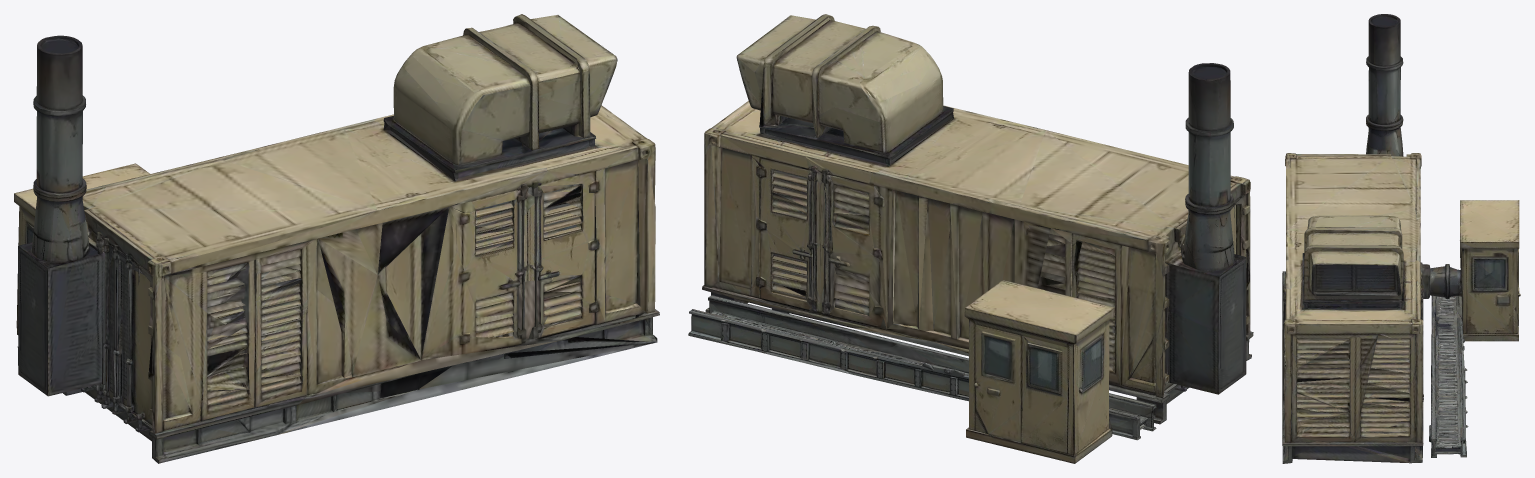
File: utilities.glb
3 renders of one model, left to right at view 1: azimuth 30°, elevation 25°; view 2: azimuth 150°, elevation 25°; view 3: azimuth 270°, elevation 25°, orthographic. The views are drawn at different scales.
Bounding box in the file's own units: 1.9 × 1.22 × 1.01.
1 material, 1 textured.
